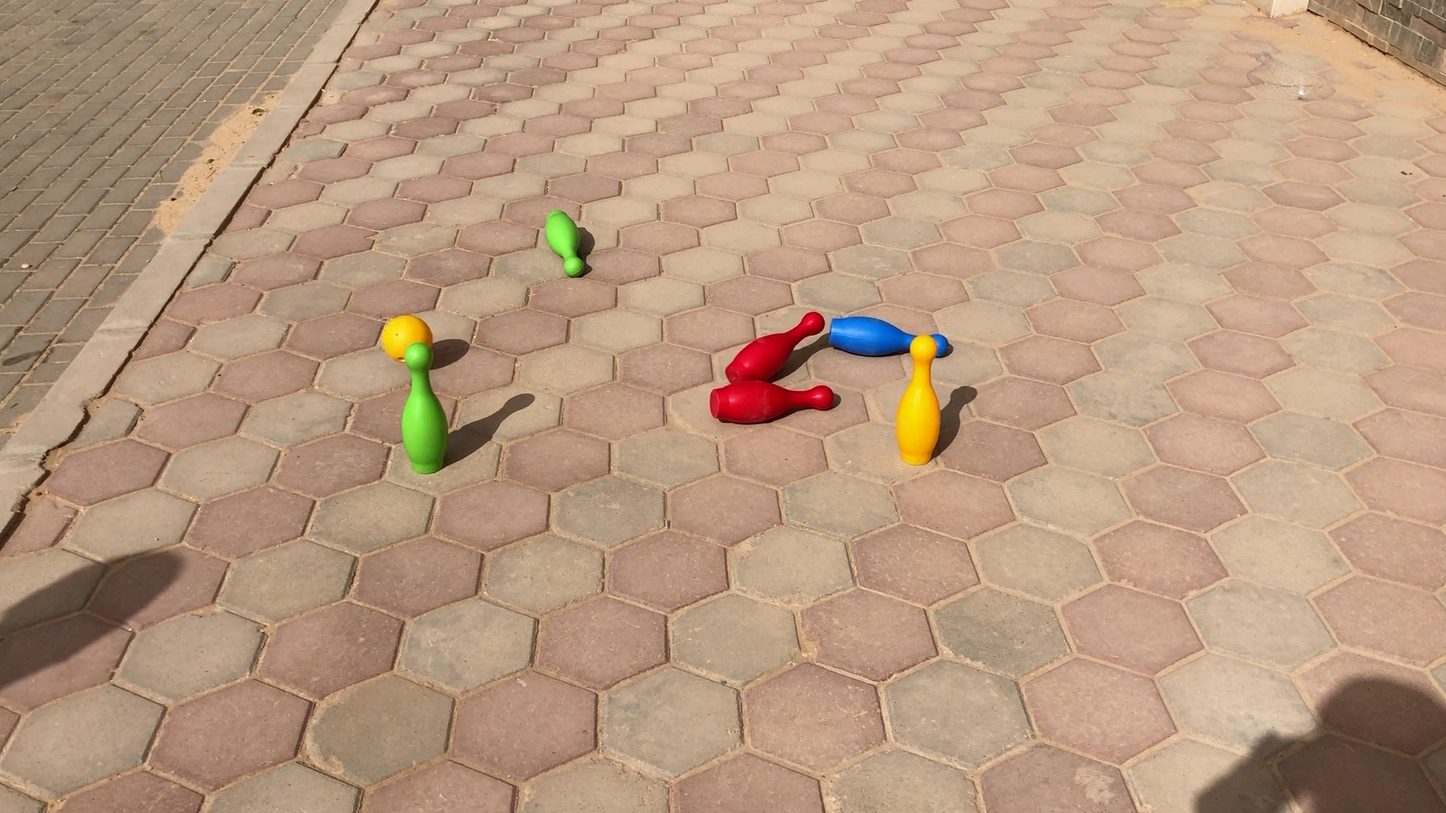bowling-pin: (392, 319, 448, 473), (720, 311, 823, 385), (825, 310, 958, 365), (897, 330, 945, 462), (709, 382, 837, 422), (546, 210, 589, 277)
